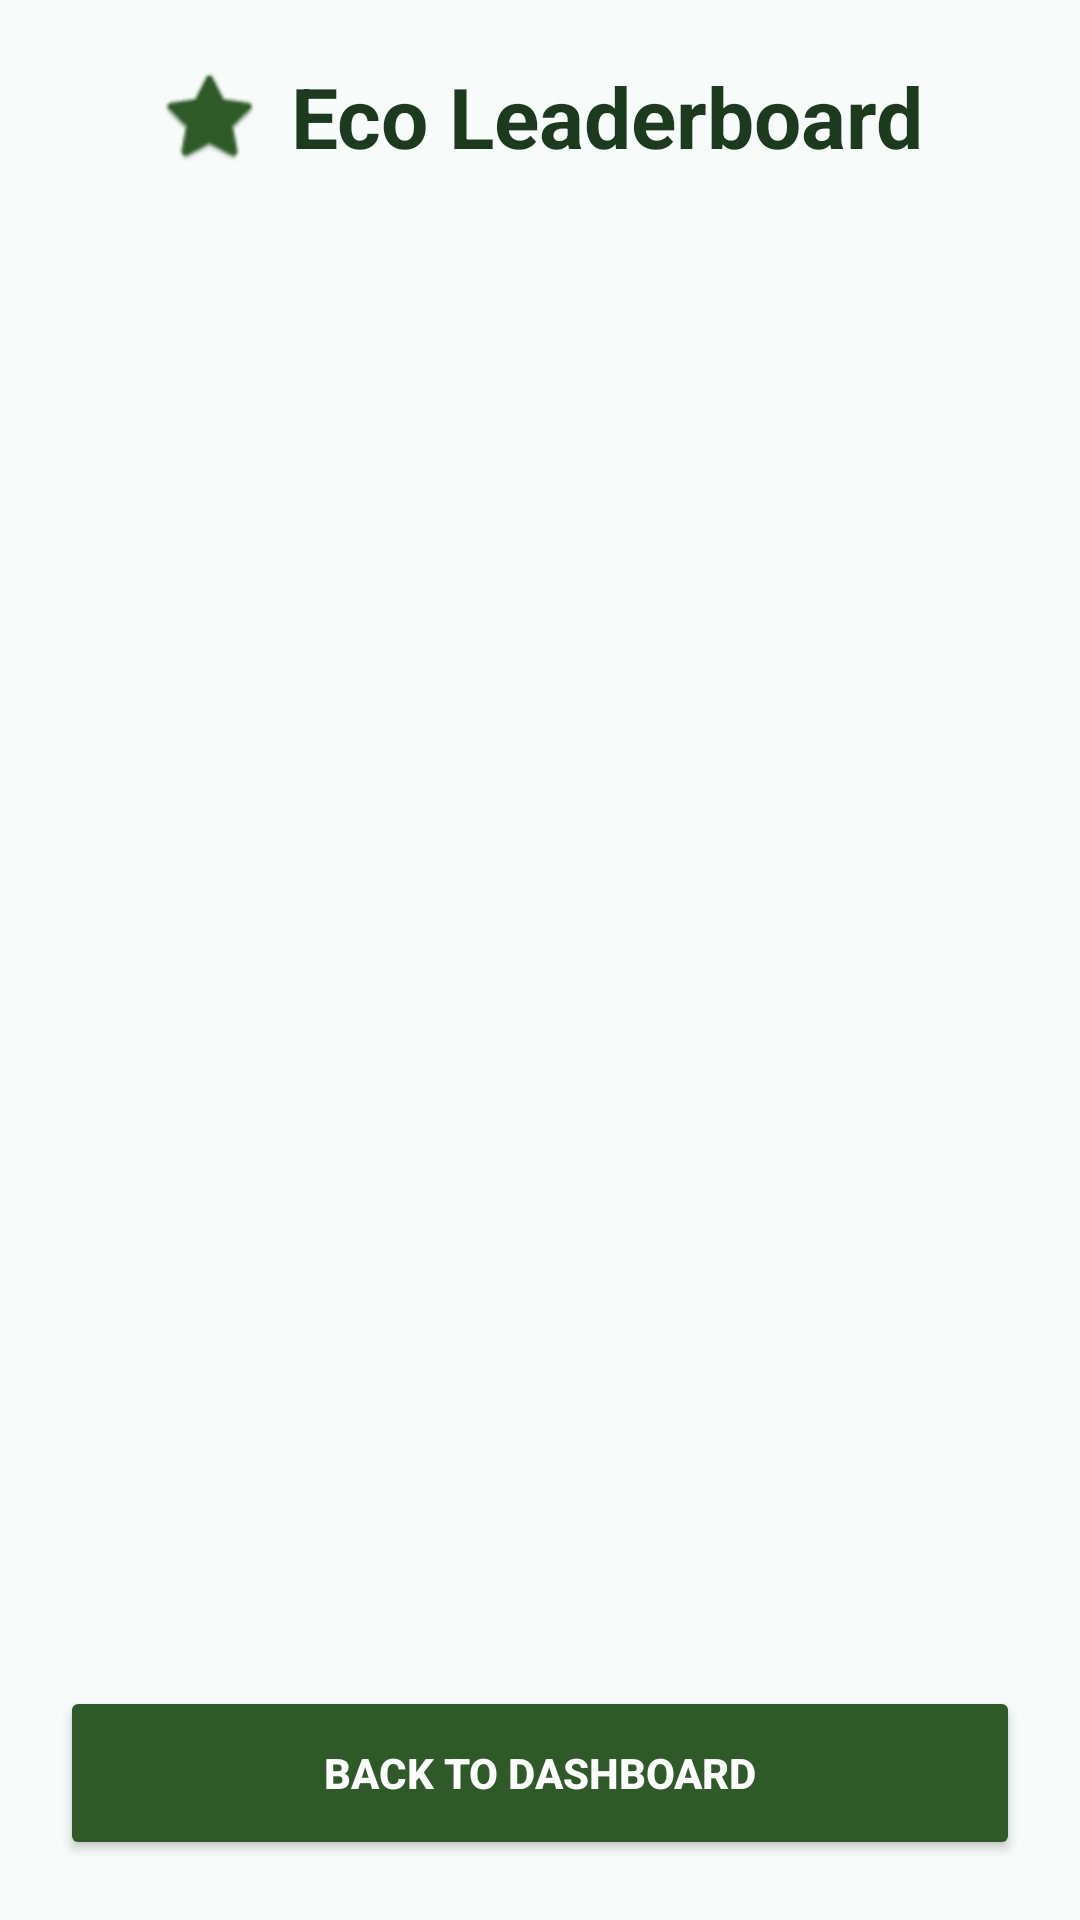

Icons on this 1080*1920 Android screen, each with its box as box(x1, y1, x2, y2):
star on: box(166, 74, 253, 159)
